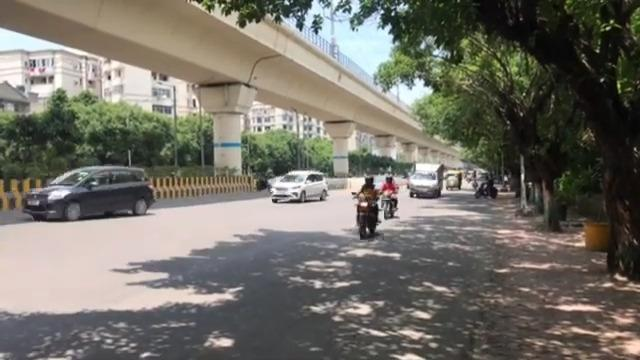Bike: (350, 177, 379, 239), (378, 171, 398, 218)
Car: (21, 164, 156, 221), (269, 170, 328, 203)
Truck: (407, 161, 444, 198)
